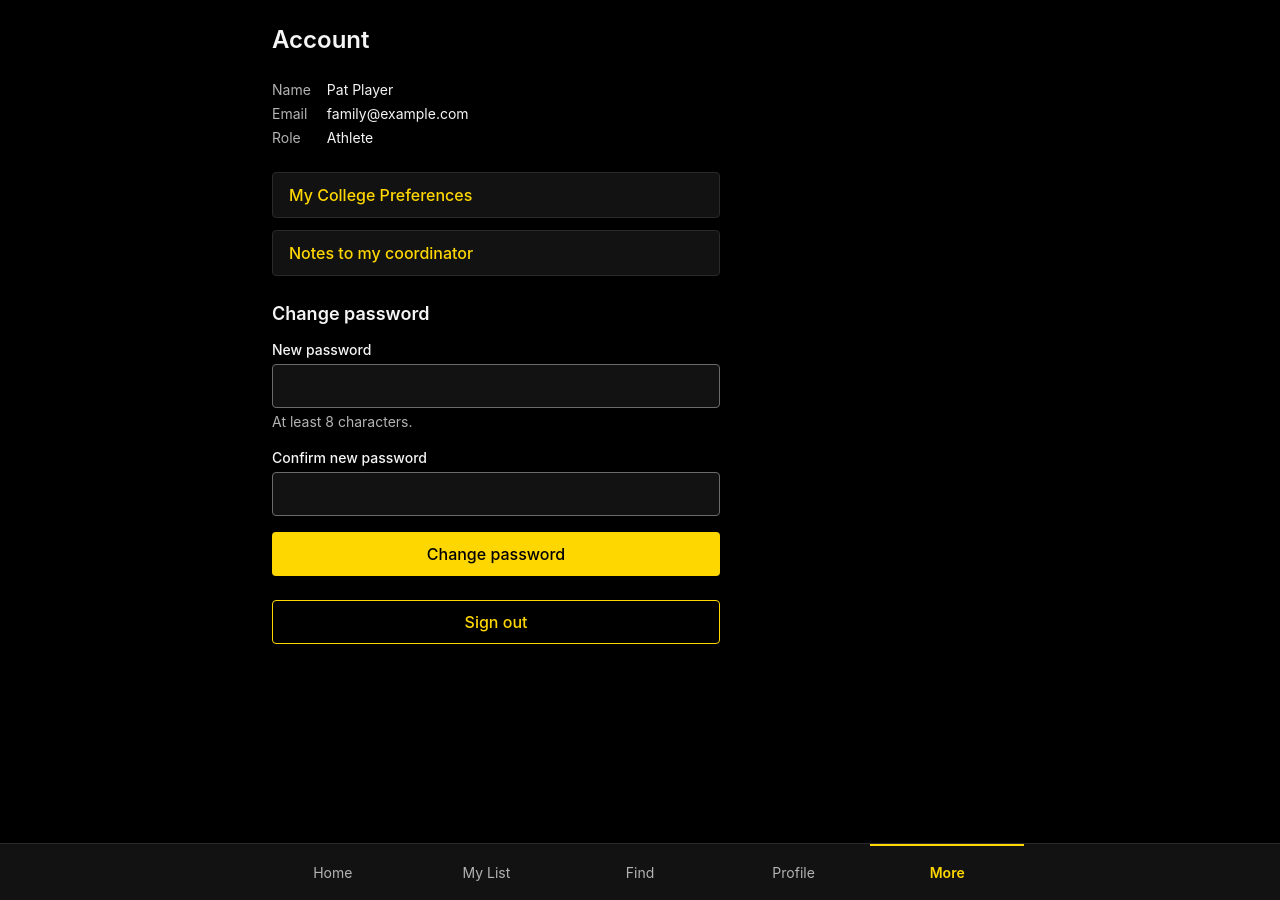
Scenario: sign in › signs out from the More tab
This screenshot has width=1280, height=900.
Click the button "Sign out": [496, 622] box [272, 600, 720, 644]
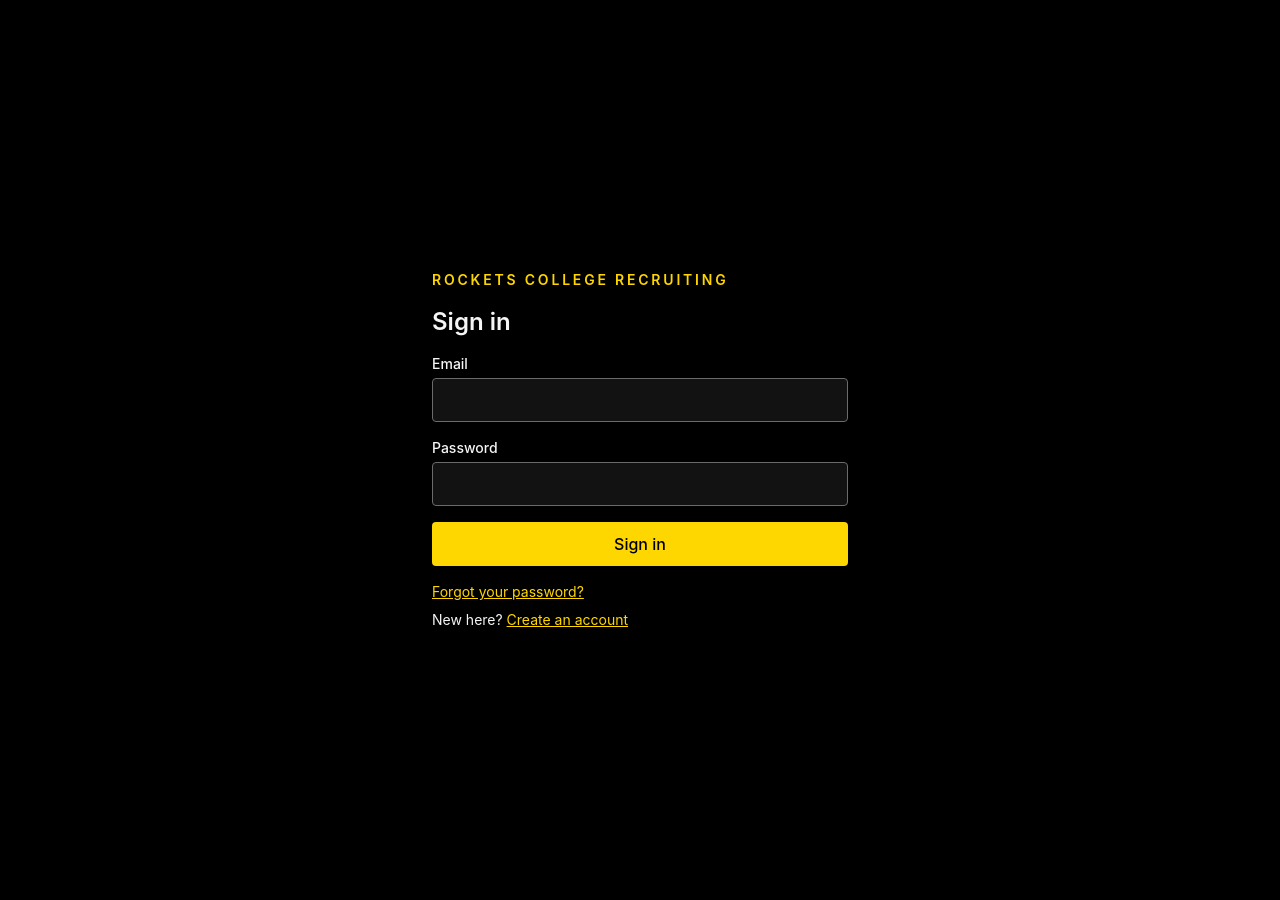
Check: the heading "Sign in" is shown, box [432, 307, 511, 336]
